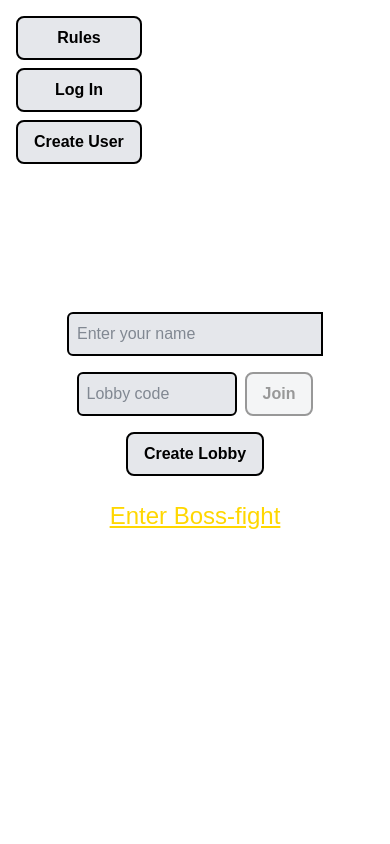
Test: HomeOverlay › shows the claimed-name modal instead of creating, when checkName reports claimed
In the field with placeholder "Enter your name": (195, 334) [67,312,323,356], type "Alice"
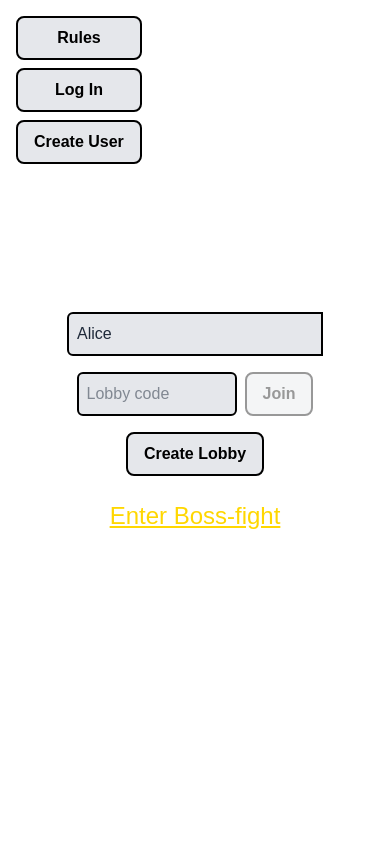
Click the button "Create Lobby": (195, 454) [126,432,264,476]
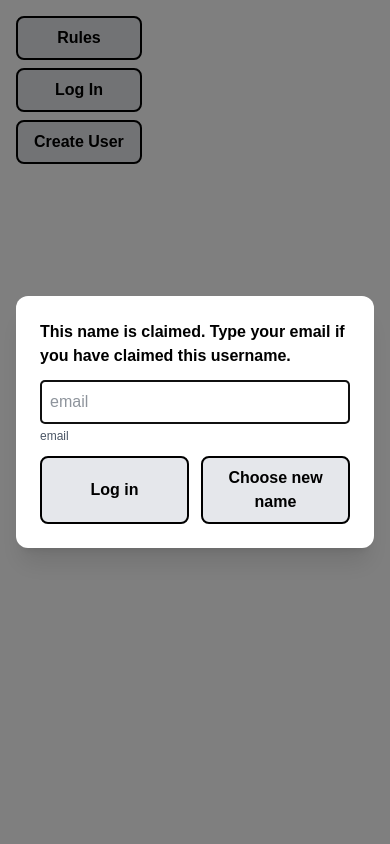
Now the text "This name is claimed. Type your email if you have claimed this username." is shown, box [40,320,350,368]
